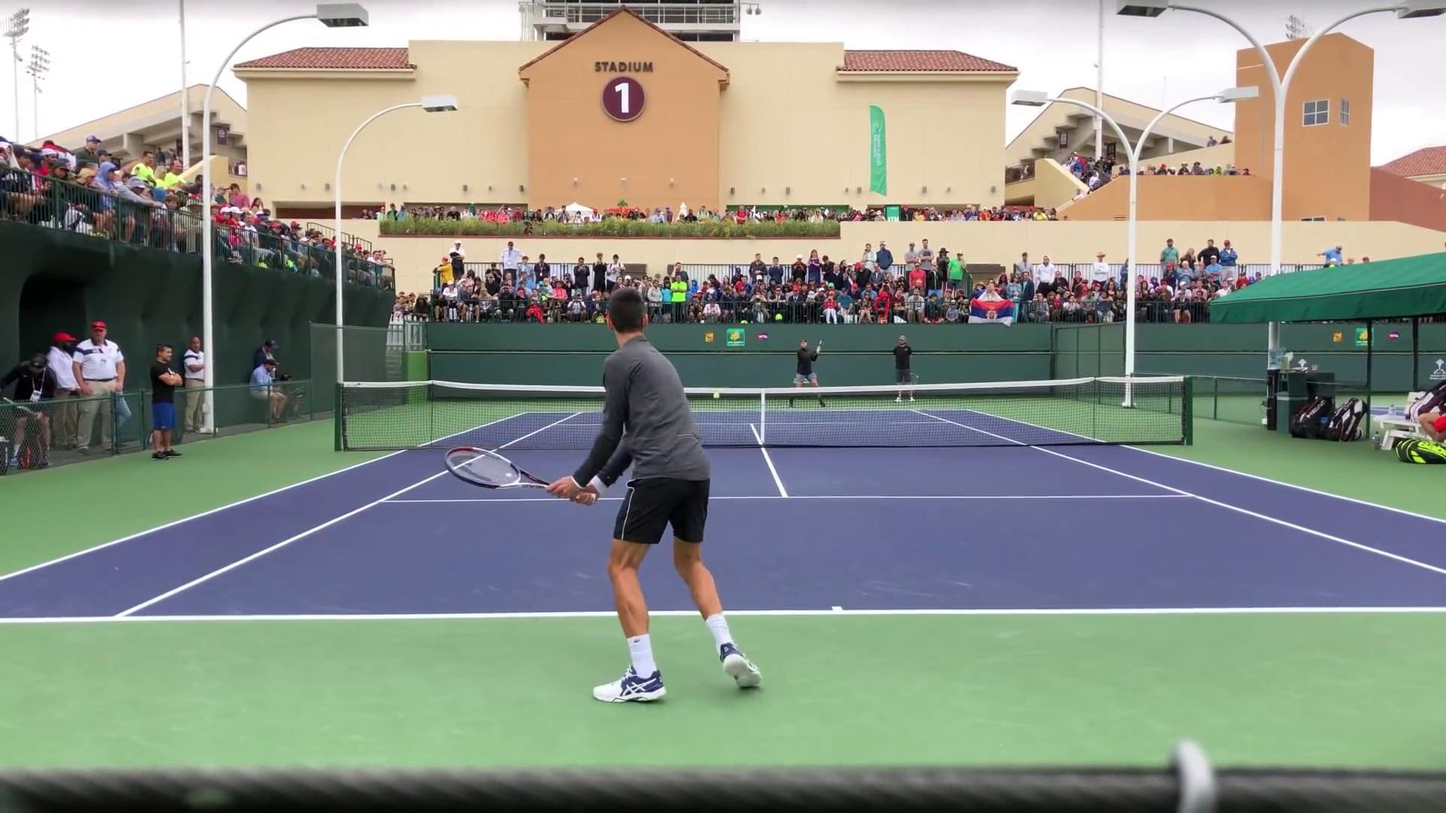ball: (712, 390, 720, 399)
